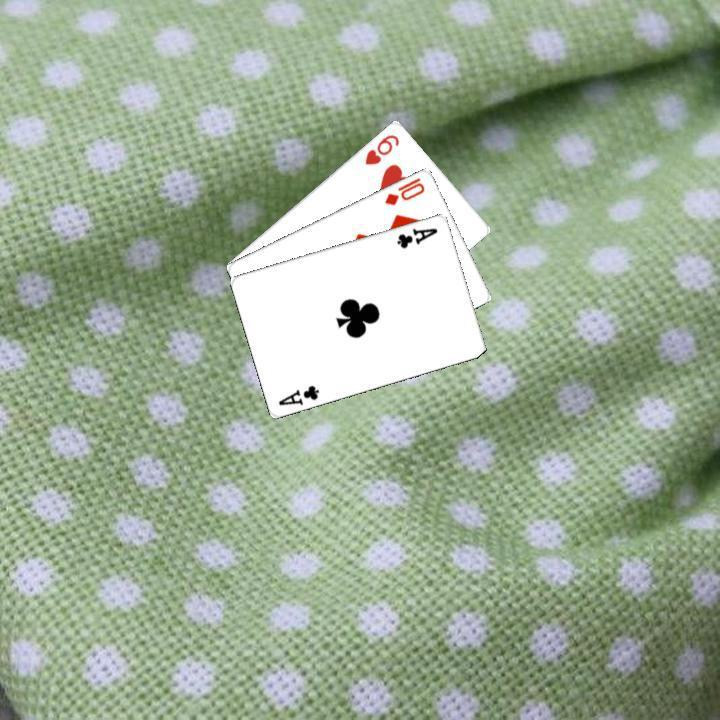10: (380, 173, 427, 207)
6: (360, 130, 401, 167)
A: (393, 223, 440, 250), (274, 380, 321, 407)
